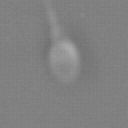normal: (40, 1, 63, 39)
